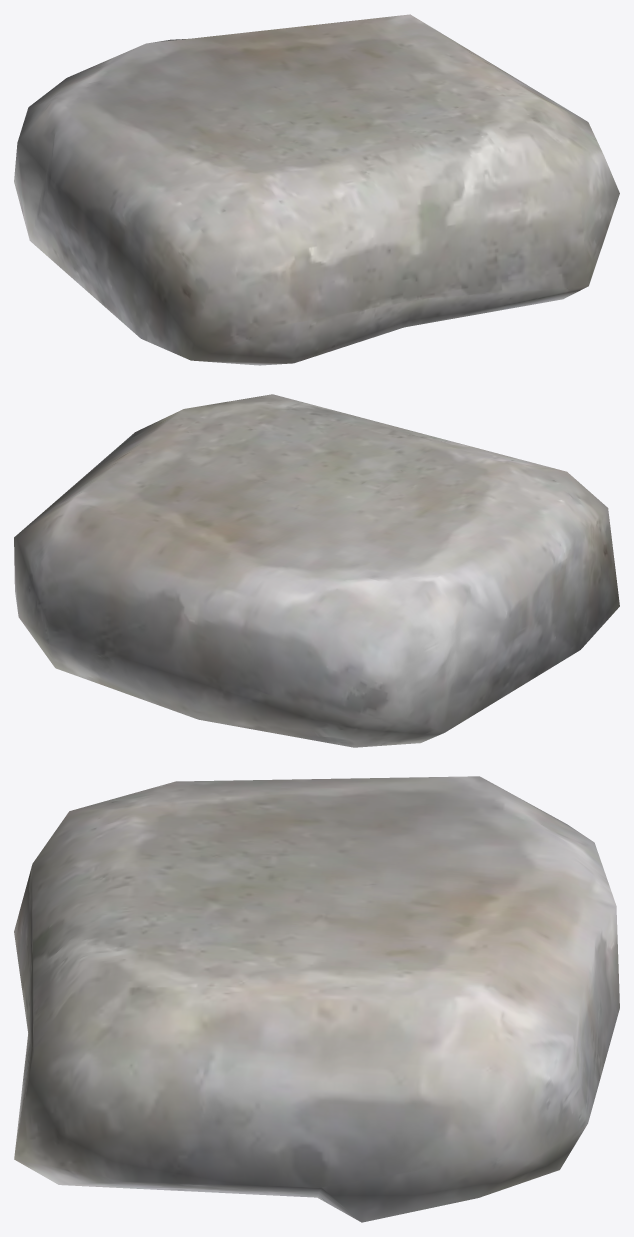
3 views of the same model, one above another, from view 1: azimuth 30°, elevation 25°; view 2: azimuth 150°, elevation 25°; view 3: azimuth 270°, elevation 25° (orthographic). The views are drawn at different scales.
Visible parts, largest first — view 1: SM_Pavement_07_LOD0; view 2: SM_Pavement_07_LOD0; view 3: SM_Pavement_07_LOD0.
Boxes of the visible parts, x1,y1,x2,y2 form: SM_Pavement_07_LOD0: [14, 14, 619, 365]; SM_Pavement_07_LOD0: [14, 394, 619, 747]; SM_Pavement_07_LOD0: [14, 776, 619, 1222].
Bounding box in the file's own units: 0.368 × 0.1322 × 0.3375.
Materials: 1 (1 with a texture image).
